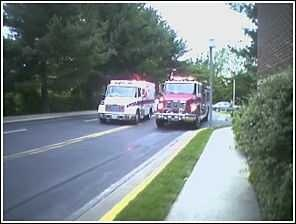Ambulance: (97, 74, 147, 125)
Fire Truck: (157, 72, 217, 125)
